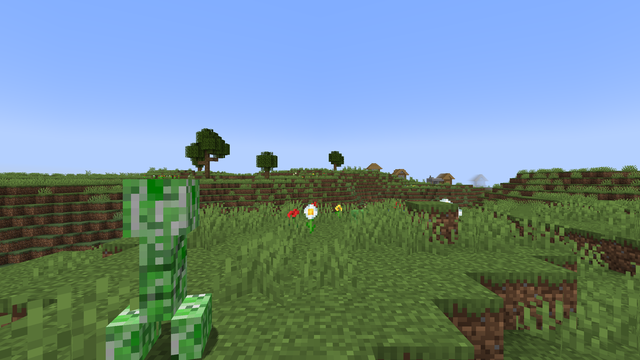creepers: (109, 170, 209, 356)
slimes: (352, 208, 368, 224)
